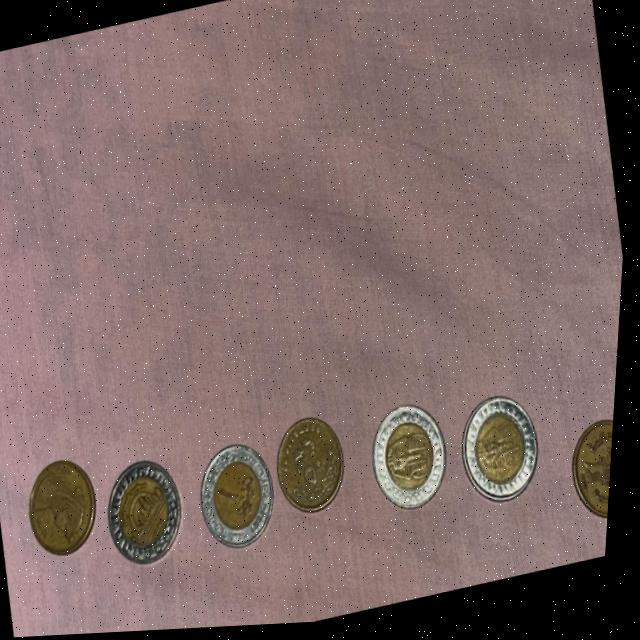Half Pound: (17, 442, 119, 576), (268, 403, 365, 536), (562, 404, 620, 547)
One Pound: (450, 373, 562, 537), (191, 428, 293, 572), (361, 392, 467, 530), (97, 444, 203, 580)
